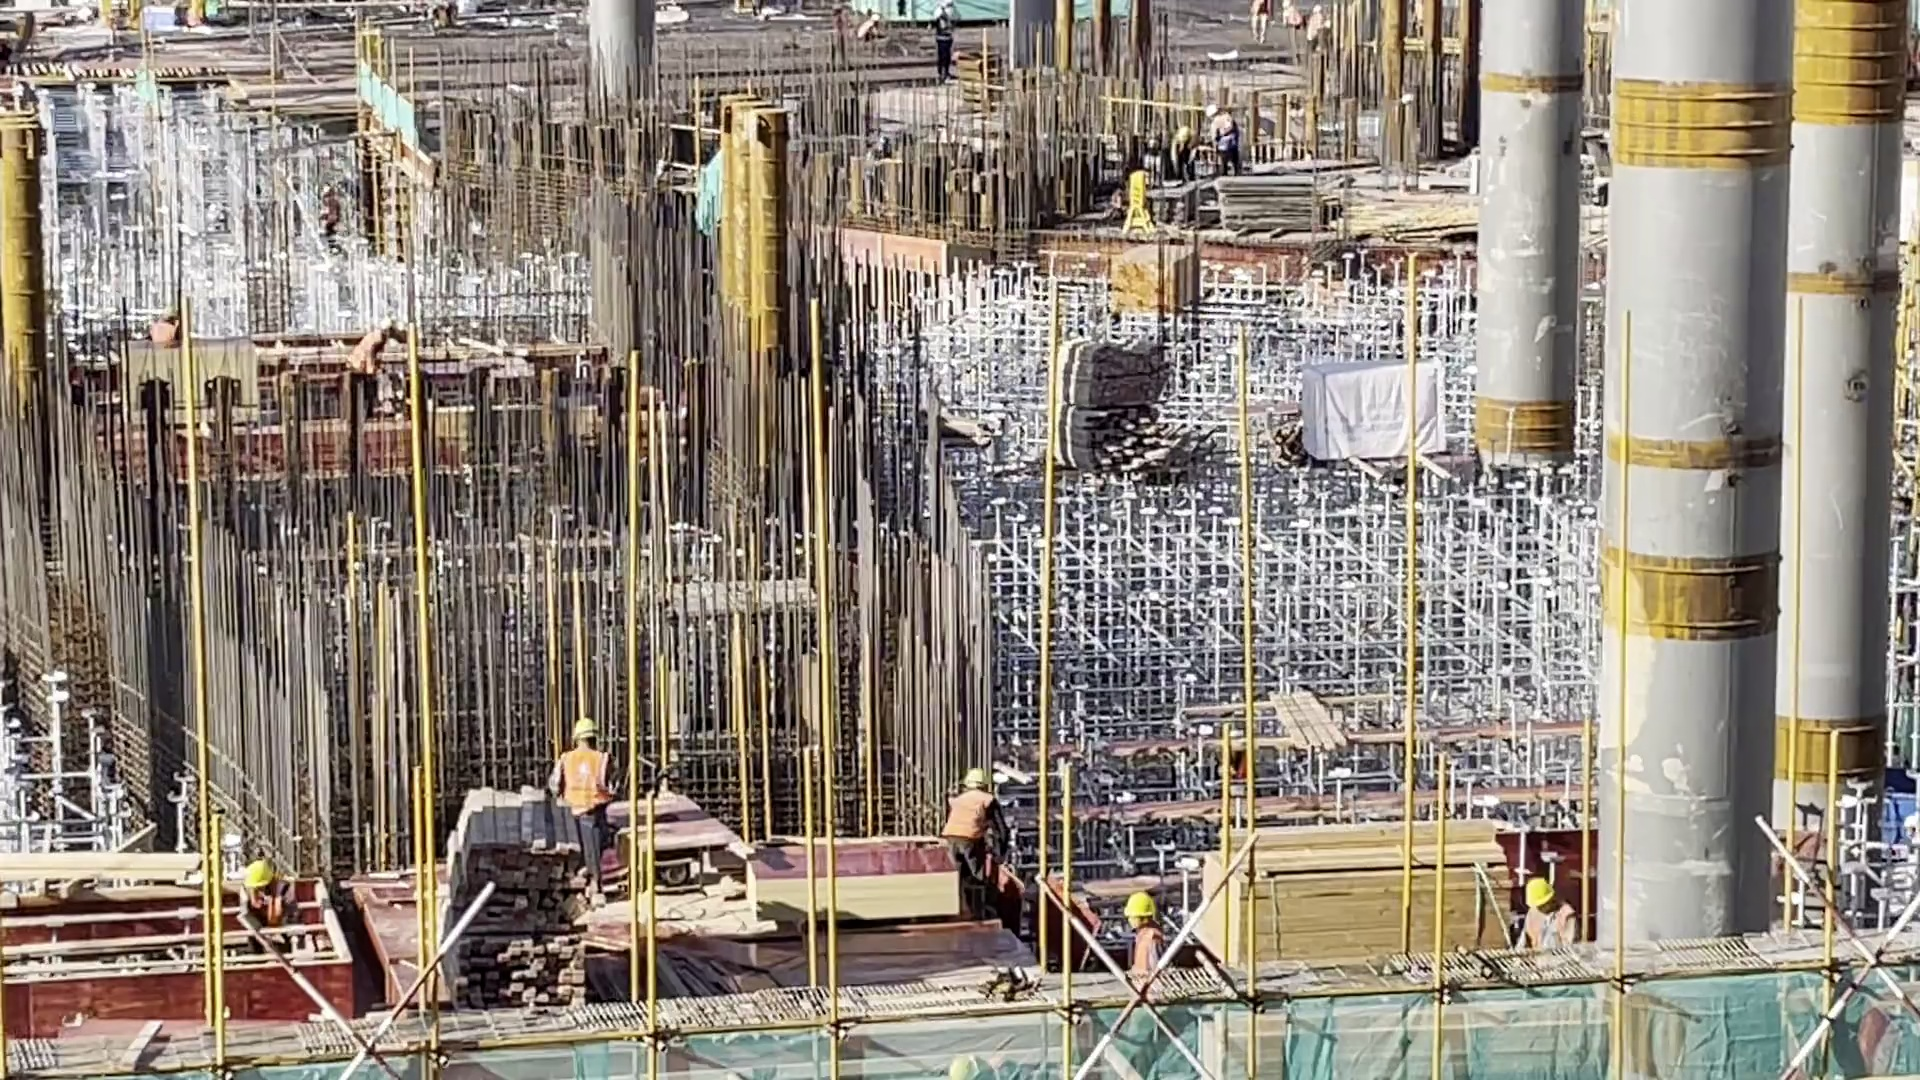helmet: (1523, 878, 1555, 911), (240, 860, 274, 890), (1122, 895, 1154, 923), (570, 718, 595, 739)
person: (549, 716, 615, 910), (940, 769, 1010, 914), (1518, 877, 1578, 956), (244, 857, 299, 933), (1122, 889, 1164, 979), (353, 315, 388, 401), (1204, 101, 1244, 175), (1168, 125, 1199, 183), (933, 1, 956, 78)
vest: (556, 751, 612, 806), (1520, 902, 1573, 959), (953, 791, 995, 841), (1132, 924, 1167, 984), (349, 329, 382, 378)
